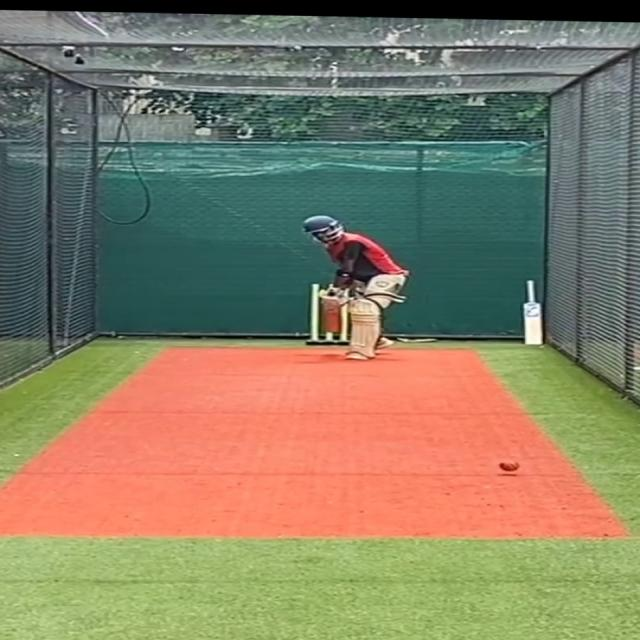ball: (497, 459, 520, 472)
stump: (304, 282, 349, 345)
